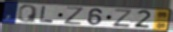2: (135, 9, 153, 29)
6: (87, 8, 105, 26)
L: (39, 6, 55, 25)
Q: (17, 4, 39, 23)
Z: (63, 6, 85, 26), (112, 8, 132, 28)
